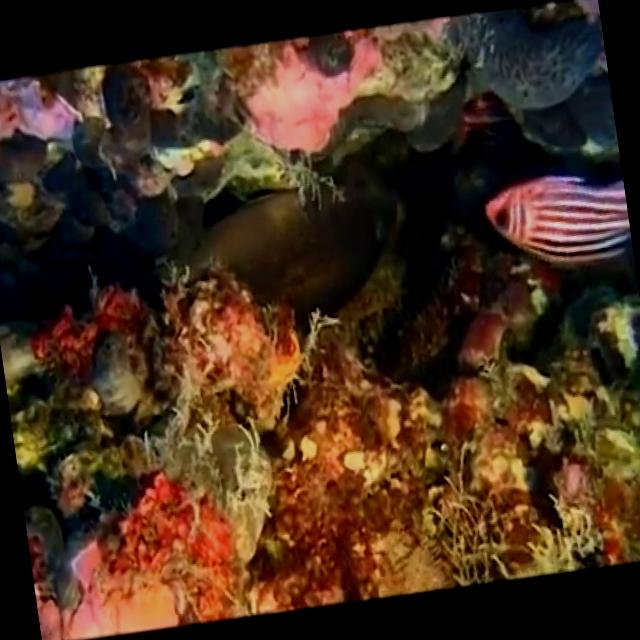Asker Baligi: (478, 160, 634, 282)
